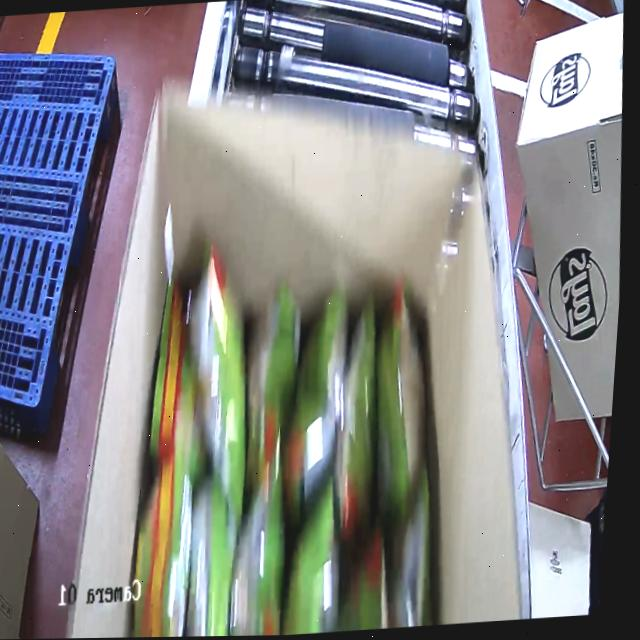YOGURT_HERB: (134, 265, 461, 637)
